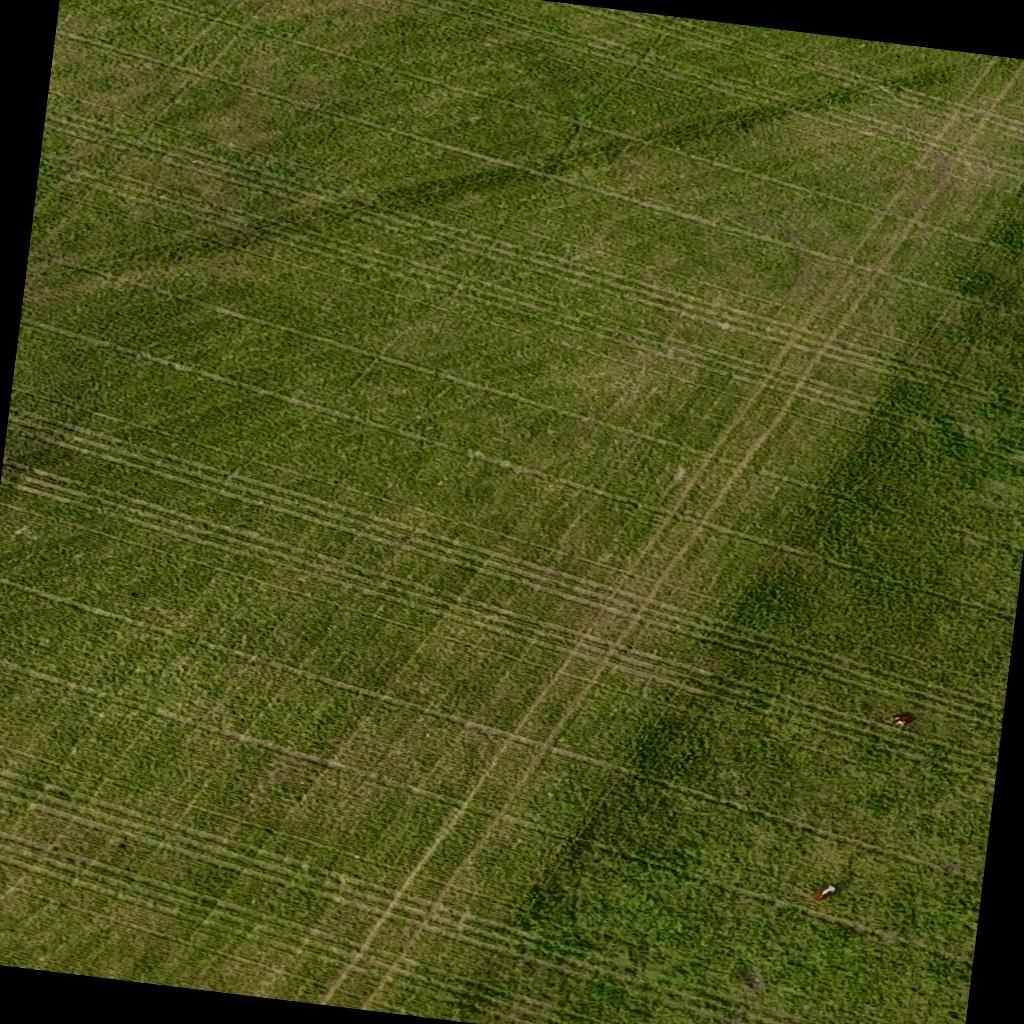cow: (884, 710, 918, 732), (810, 882, 842, 904)
